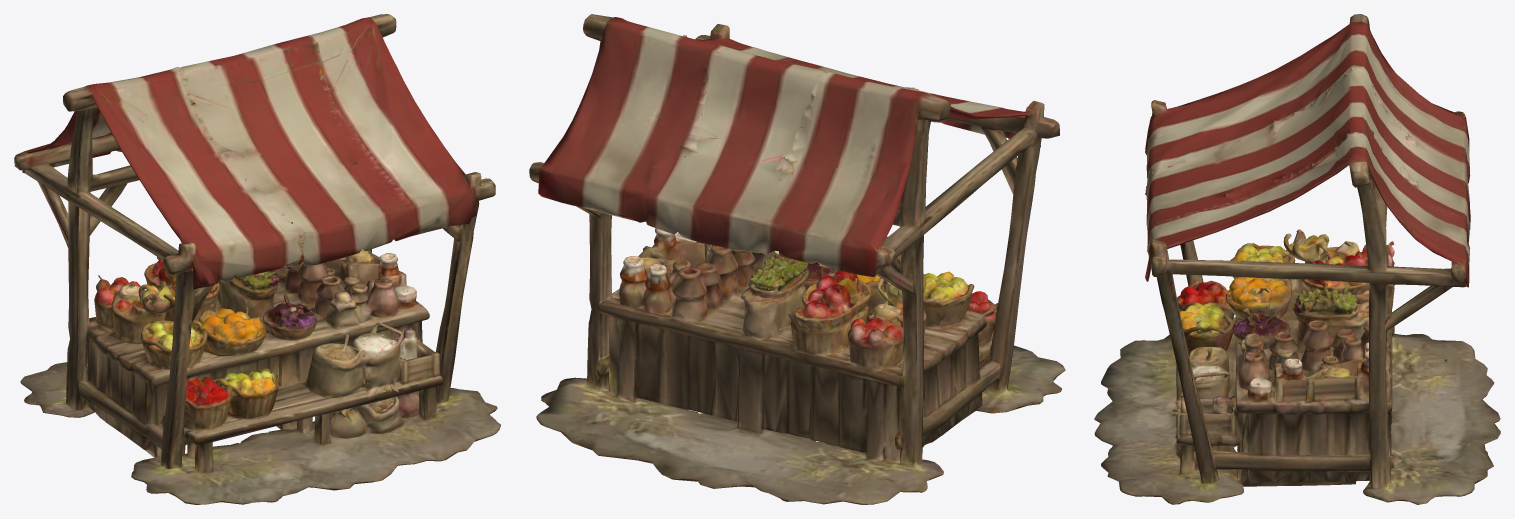
Rendered from market.glb.
3 views of the same model, side by side, from view 1: azimuth 30°, elevation 25°; view 2: azimuth 150°, elevation 25°; view 3: azimuth 270°, elevation 25° (orthographic). The views are drawn at different scales.
Parts seen in each view (by area): view 1: Mesh_0; view 2: Mesh_0; view 3: Mesh_0.
Boxes of the visible parts, left/top/right/bottom form: Mesh_0: left=14, top=14, right=500, bottom=504; Mesh_0: left=529, top=14, right=1065, bottom=504; Mesh_0: left=1094, top=14, right=1500, bottom=504.
Bounding box in the file's own units: 1.88 × 1.73 × 1.9.
Materials: 1 (1 with a texture image).
